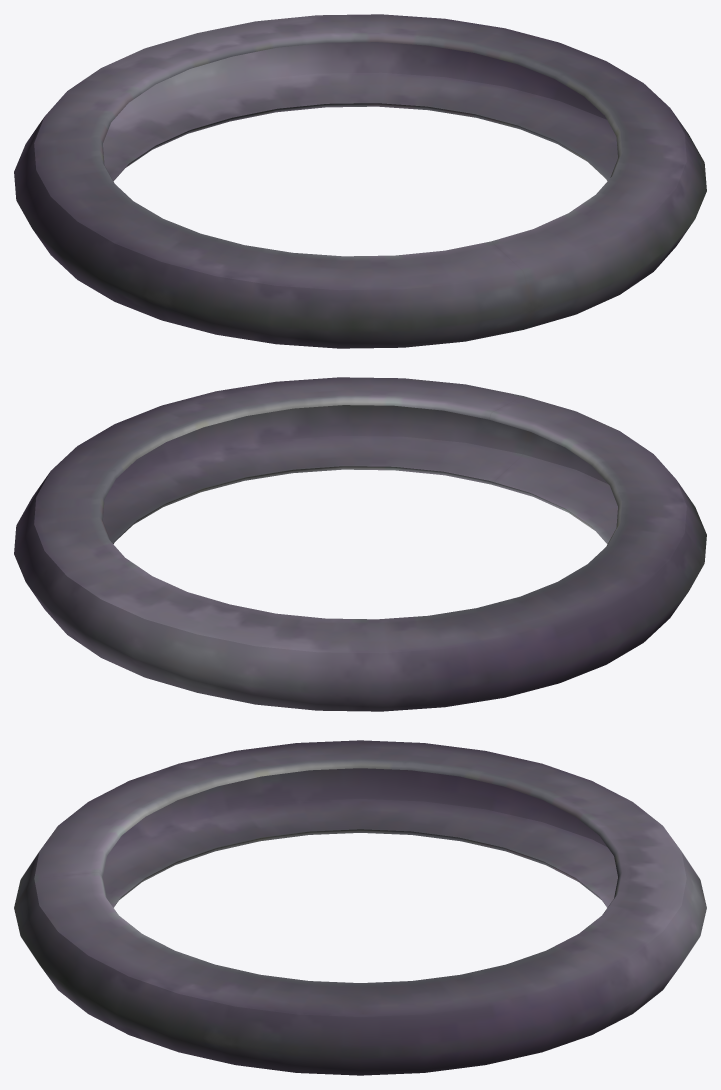
Rendered from pref_fx_NeutralScoreArea03_destain_rim_lv1.fbx.
The picture shows the model from 3 angles, top to bottom: view 1: azimuth 30°, elevation 25°; view 2: azimuth 150°, elevation 25°; view 3: azimuth 270°, elevation 25°; orthographic projection.
Visible parts, largest first — view 1: sm_prop_platform06b_lv1; view 2: sm_prop_platform06b_lv1; view 3: sm_prop_platform06b_lv1.
Boxes of the visible parts, x1,y1,x2,y2 form: sm_prop_platform06b_lv1: [14, 14, 706, 348]; sm_prop_platform06b_lv1: [14, 377, 706, 711]; sm_prop_platform06b_lv1: [14, 740, 706, 1075].
Size of the model in its own units: 2.52 by 0.2872 by 2.52.
